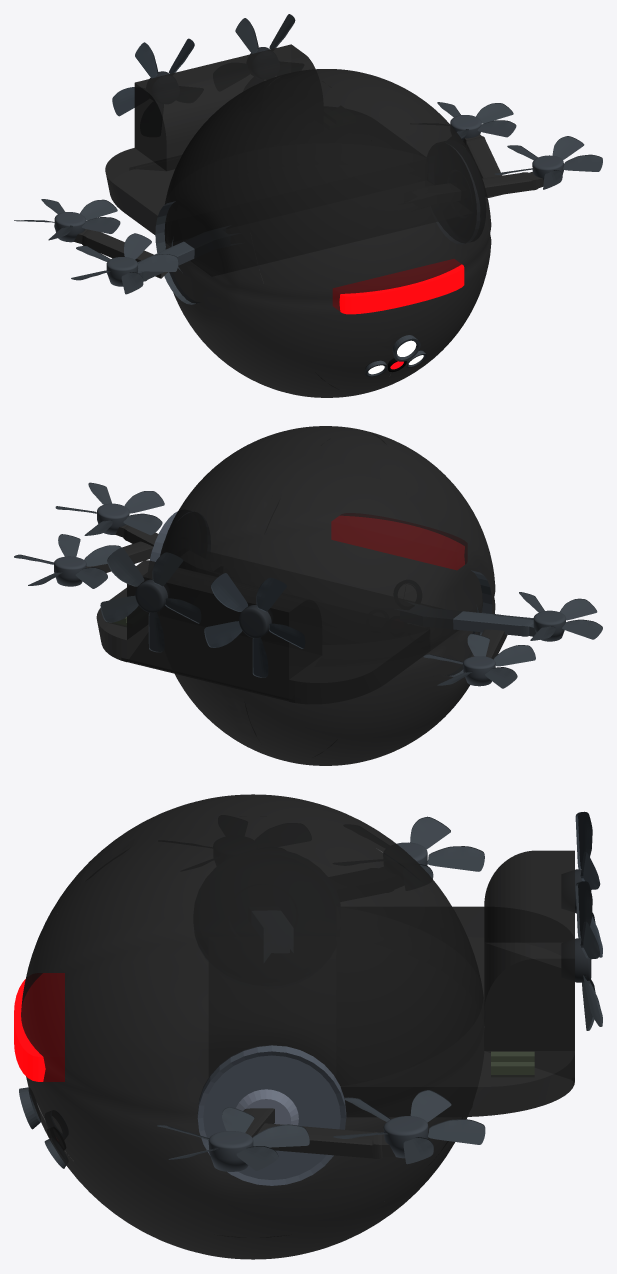
Rendered from swarm1.glb.
3 views of the same model, one above another, from view 1: azimuth 30°, elevation 25°; view 2: azimuth 150°, elevation 25°; view 3: azimuth 270°, elevation 25° (orthographic). The views are drawn at different scales.
Visible parts, largest first — view 1: Sphere.001, Sphere, Plane.001, Plane, Cube, Cylinder.004, Cylinder.001, Cube.001, Cylinder.011, Cylinder.008, Cylinder.010, Cube.003 (+9 smaller); view 2: Sphere.001, Sphere, Plane.001, Plane, Cylinder.005, Cylinder.008, Cube.001, Cylinder.011, Cylinder.001, Cylinder.010, Cylinder.004, Cube (+10 smaller); view 3: Sphere, Sphere.001, Plane.001, Circle, Plane, Cylinder.010, Cylinder.001, Cube.002, Cylinder.011, Cylinder.005, Cube.001, Cylinder.008 (+6 smaller).
Boxes of the visible parts, left/top/right/bottom form: Sphere.001: left=164, top=72, right=408, bottom=397; Sphere: left=246, top=69, right=491, bottom=393; Plane.001: left=105, top=44, right=471, bottom=276; Plane: left=333, top=259, right=464, bottom=314; Cube: left=404, top=171, right=543, bottom=207; Cylinder.004: left=71, top=233, right=178, bottom=294; Cylinder.001: left=495, top=136, right=602, bottom=189; Cube.001: left=137, top=226, right=241, bottom=281; Cylinder.011: left=14, top=199, right=120, bottom=240; Cylinder.008: left=112, top=38, right=194, bottom=116; Cylinder.010: left=437, top=102, right=516, bottom=138; Cube.003: left=74, top=229, right=167, bottom=278; Sphere.001: left=242, top=430, right=495, bottom=765; Sphere: left=160, top=426, right=409, bottom=761; Plane.001: left=96, top=552, right=457, bottom=704; Plane: left=331, top=516, right=464, bottom=569; Cylinder.005: left=100, top=547, right=201, bottom=652; Cylinder.008: left=204, top=573, right=305, bottom=677; Cube.001: left=397, top=602, right=535, bottom=636; Cylinder.011: left=423, top=633, right=535, bottom=688; Cylinder.001: left=55, top=482, right=164, bottom=535; Cylinder.010: left=14, top=534, right=121, bottom=588; Cylinder.004: left=492, top=592, right=602, bottom=640; Cube: left=115, top=524, right=233, bottom=576; Sphere: left=21, top=816, right=483, bottom=1259; Sphere.001: left=21, top=794, right=483, bottom=1236; Plane.001: left=209, top=850, right=574, bottom=1117; Circle: left=197, top=1045, right=346, bottom=1185; Plane: left=14, top=973, right=64, bottom=1081; Cylinder.010: left=333, top=1090, right=485, bottom=1164; Cylinder.001: left=157, top=1107, right=309, bottom=1170; Cube.002: left=257, top=1123, right=395, bottom=1158; Cylinder.011: left=405, top=816, right=484, bottom=878; Cylinder.005: left=575, top=881, right=602, bottom=1030; Cube.001: left=251, top=910, right=293, bottom=962; Cylinder.008: left=575, top=811, right=602, bottom=957.
Bounding box in the file's own units: 2.18 × 1.2 × 1.52.
